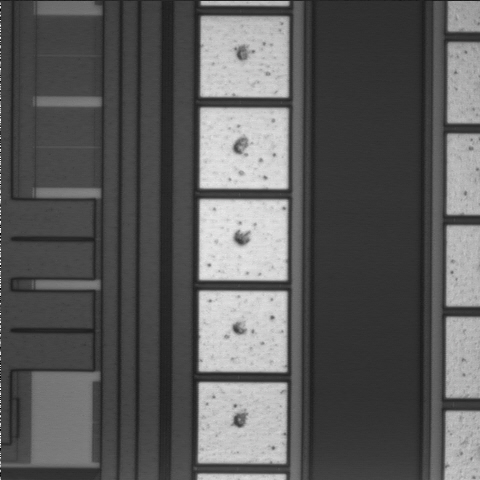pad: (200, 108, 288, 189), (199, 291, 287, 372), (199, 200, 287, 280), (198, 383, 286, 463), (201, 17, 288, 97)
